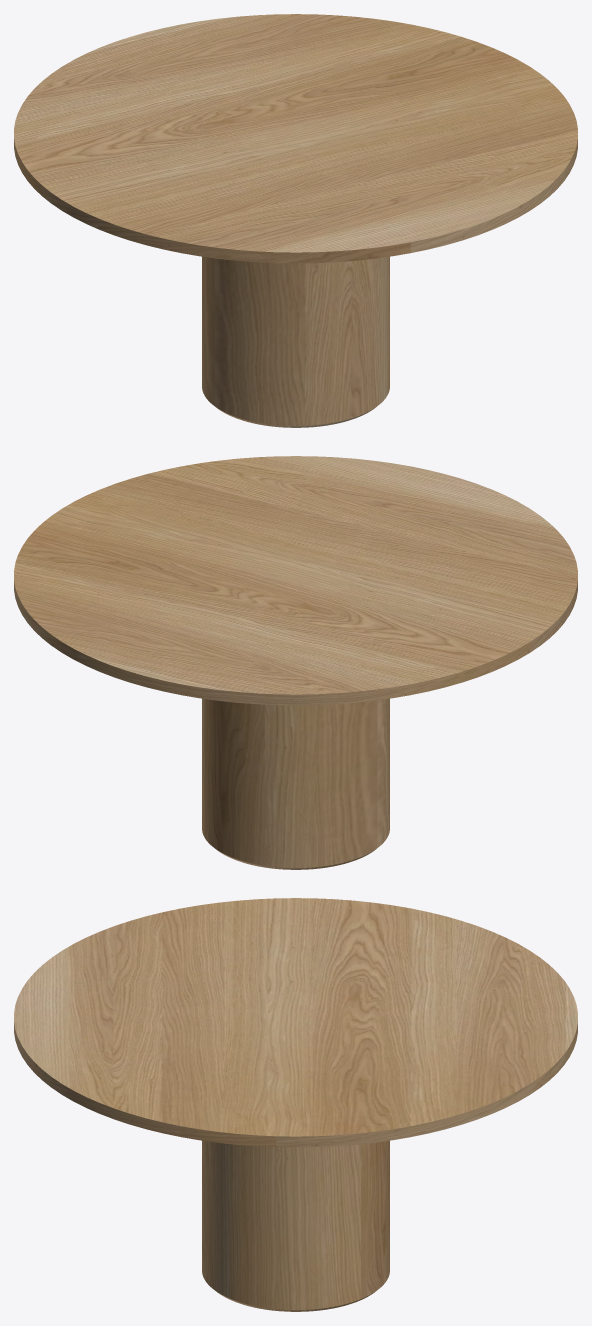
File: round-v2.glb
3 renders of one model, top to bottom at view 1: azimuth 30°, elevation 25°; view 2: azimuth 150°, elevation 25°; view 3: azimuth 270°, elevation 25°, orthographic.
Size of the model in its own units: 1.5 by 0.752 by 1.5.
2 materials, 2 textured.
